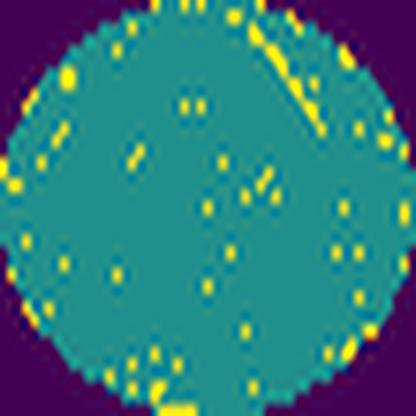Scratch: (244, 19, 330, 139)
